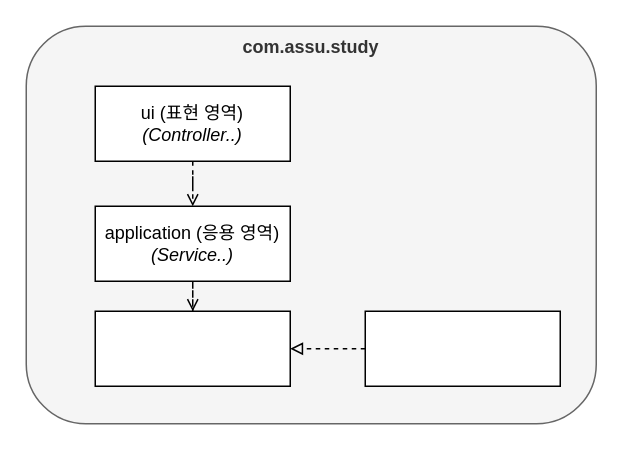
This 623x450 diagram has some shape labels left out. Here are the shapes that lost their labels. From the top down, the centre of each, then its label:
At (192,348): "domain".
At (462,348): "infrastructure".
